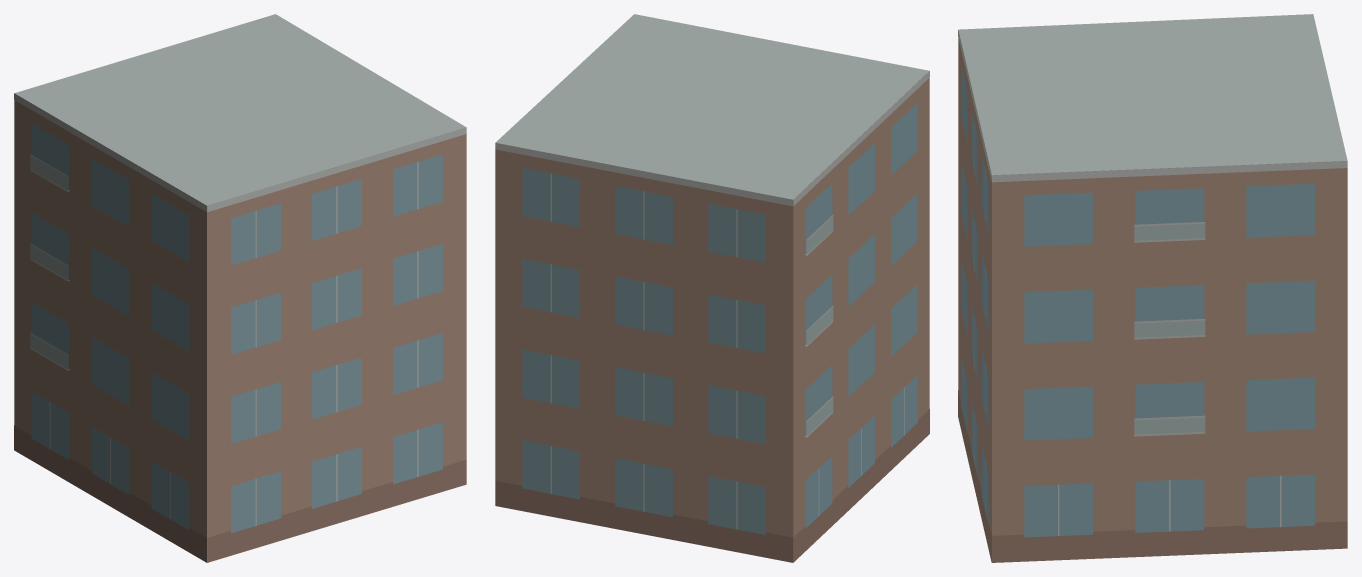
File: survey-upis-32654928.glb
3 views of the same model, side by side, from view 1: azimuth 30°, elevation 25°; view 2: azimuth 150°, elevation 25°; view 3: azimuth 270°, elevation 25° (orthographic). The views are drawn at different scales.
Visible parts, largest first — view 1: survey-upis-32654928.tmp; view 2: survey-upis-32654928.tmp; view 3: survey-upis-32654928.tmp.
Boxes of the visible parts, left/top/right/bottom form: survey-upis-32654928.tmp: left=14, top=14, right=466, bottom=562; survey-upis-32654928.tmp: left=495, top=14, right=929, bottom=562; survey-upis-32654928.tmp: left=958, top=14, right=1347, bottom=562.
Size of the model in its own units: 11.87 by 13.3 by 12.12.
